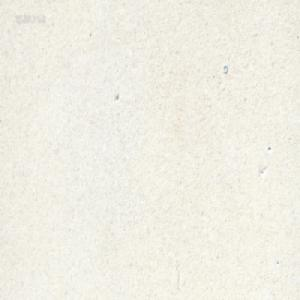Washer: (222, 64, 228, 75)
